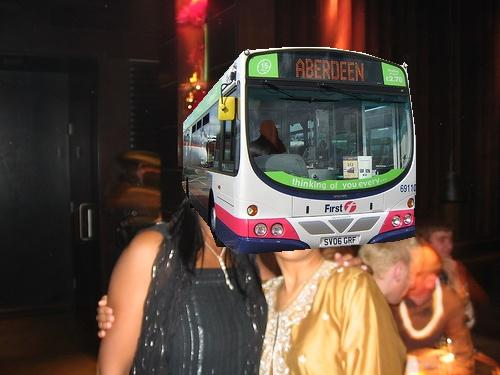tampered: (183, 48, 416, 254)
